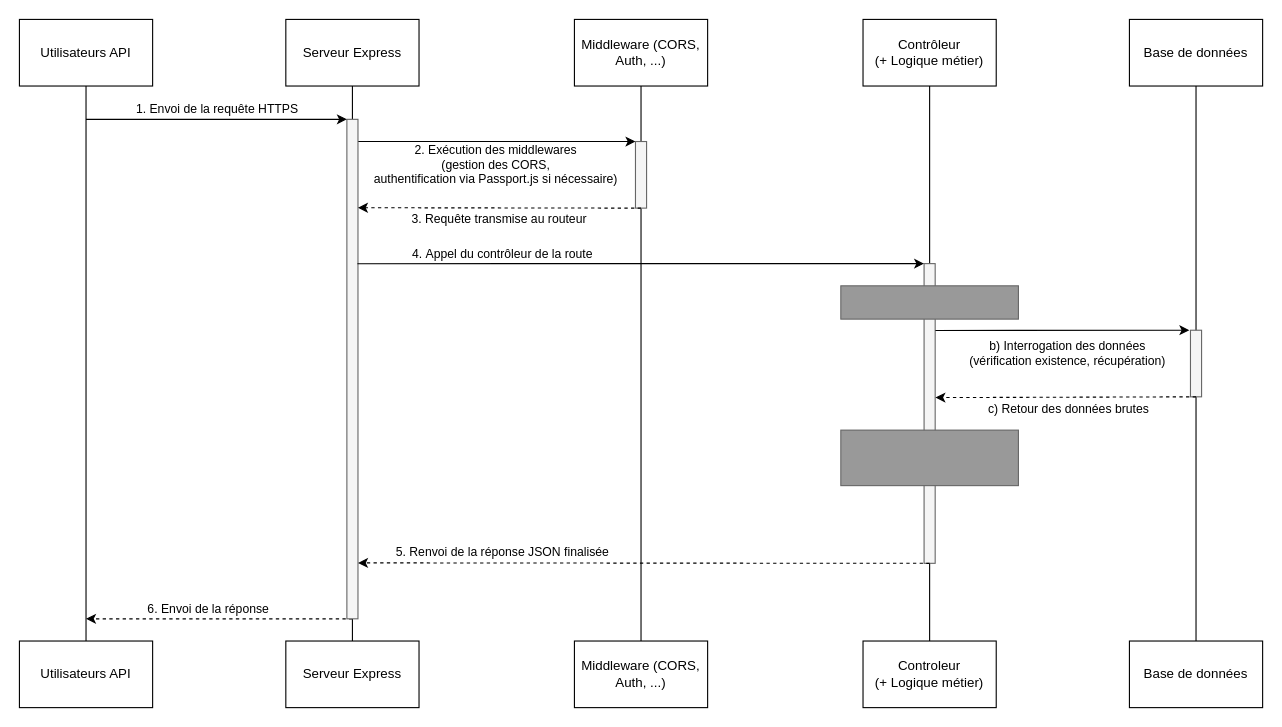
The diagram is 1282 pixels wide and 727 high, and some of its shapes have lost their labels. Here are the shapes that lost their labels. From the top down, the centre of each, then its label:
At point (929, 302): "a) Validation des paramètres (Joi)".
At point (929, 457): "d) Enrichissement des métadonnées (ajout de messages)".
